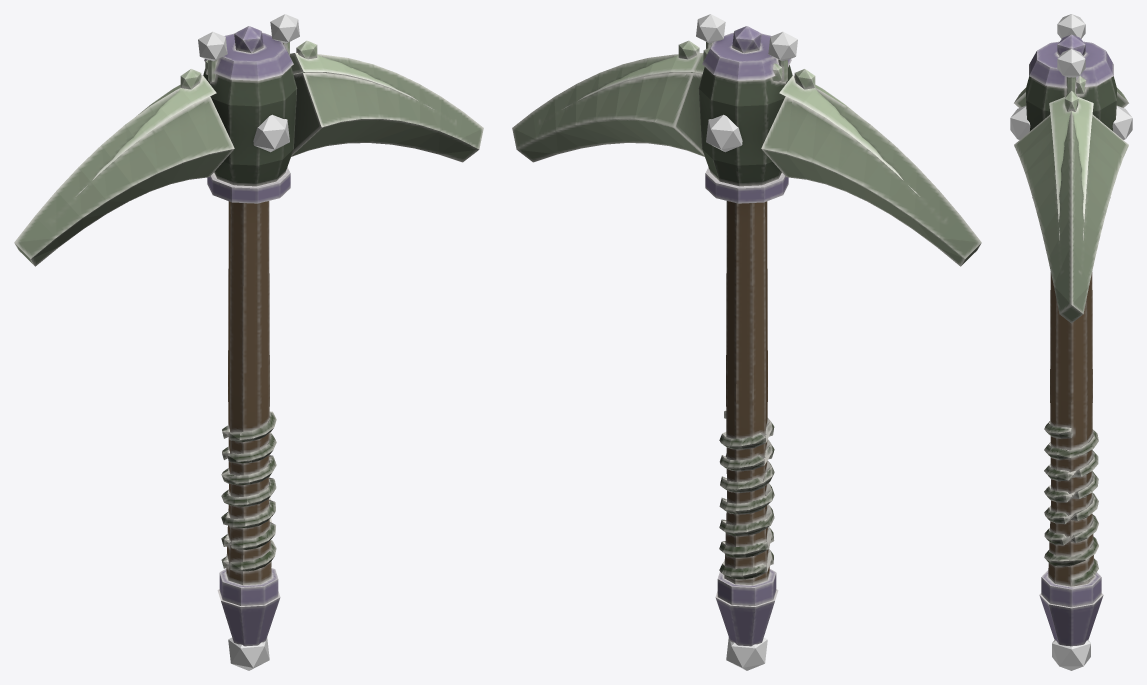
Rendered from MossbackPickaxe.glb.
3 renders of one model, left to right at view 1: azimuth 30°, elevation 25°; view 2: azimuth 150°, elevation 25°; view 3: azimuth 270°, elevation 25°, orthographic.
Visible parts, largest first — view 1: Body__Tex, Head__Gem, Head__Accent; view 2: Body__Tex, Head__Gem, Head__Accent; view 3: Body__Tex, Head__Gem, Head__Accent.
Part boxes in pixels (left/top/right/bottom): Body__Tex: left=14, top=26, right=483, bottom=646; Head__Gem: left=228, top=114, right=289, bottom=670; Head__Accent: left=198, top=14, right=299, bottom=61; Body__Tex: left=512, top=26, right=981, bottom=646; Head__Gem: left=706, top=114, right=767, bottom=670; Head__Accent: left=696, top=14, right=797, bottom=61; Body__Tex: left=1014, top=34, right=1128, bottom=646; Head__Gem: left=1010, top=105, right=1132, bottom=670; Head__Accent: left=1057, top=14, right=1085, bottom=77.
Size of the model in its own units: 3.25 by 4.28 by 0.7412.
Materials: 1 (1 with a texture image).
